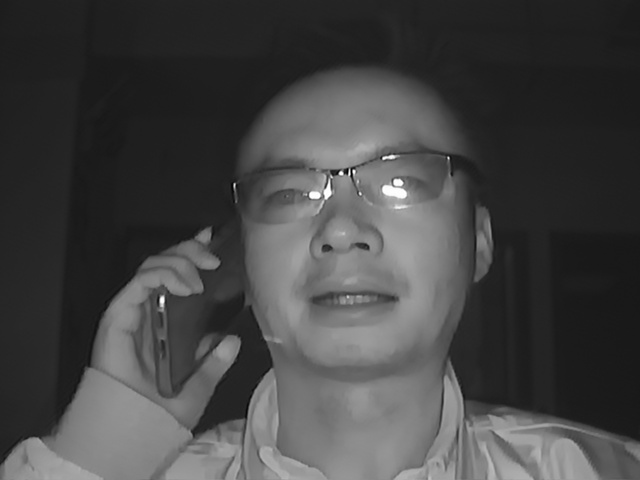hand: (90, 222, 241, 407)
